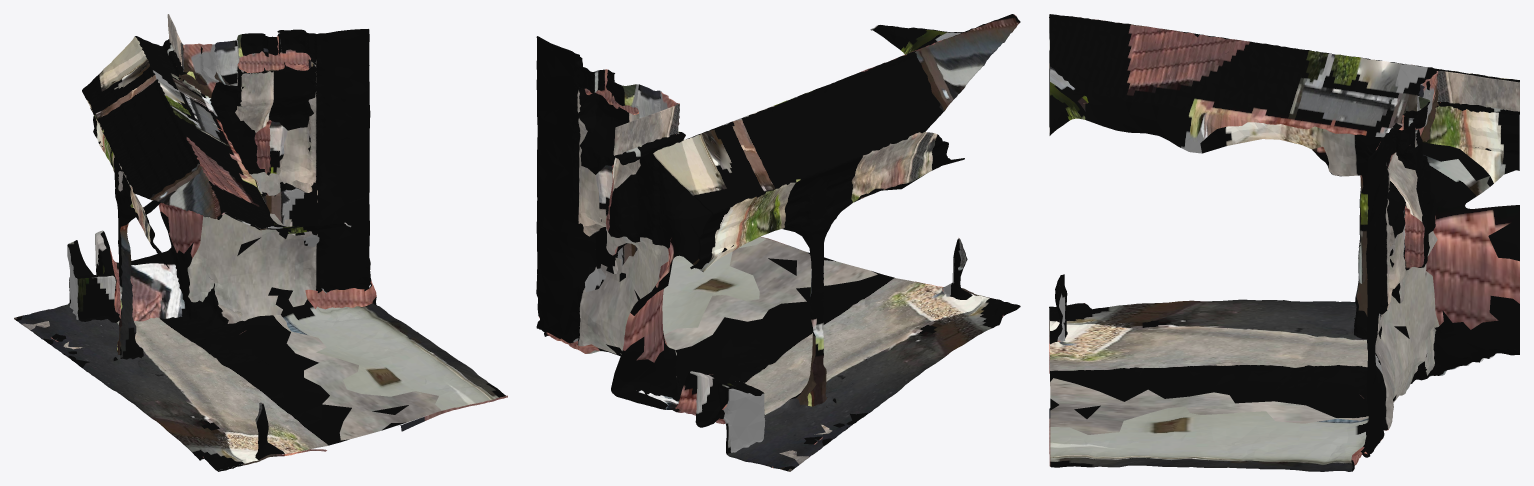
3 renders of one model, left to right at view 1: azimuth 30°, elevation 25°; view 2: azimuth 150°, elevation 25°; view 3: azimuth 270°, elevation 25°, orthographic. The views are drawn at different scales.
Parts seen in each view (by area): view 1: node_153; view 2: node_153; view 3: node_153.
Part boxes in pixels (x1=…): node_153: x1=14, y1=14, x2=507, y2=471; node_153: x1=536, y1=14, x2=1020, y2=471; node_153: x1=1049, y1=14, x2=1519, y2=471.
Size of the model in its own units: 9 by 8.21 by 10.99.
Materials: 1 (1 with a texture image).
